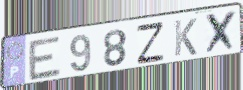8: (102, 28, 129, 68)
9: (69, 33, 92, 73)
E: (28, 34, 63, 83)
K: (173, 17, 198, 58)
X: (203, 8, 238, 57)
Z: (135, 20, 166, 66)
